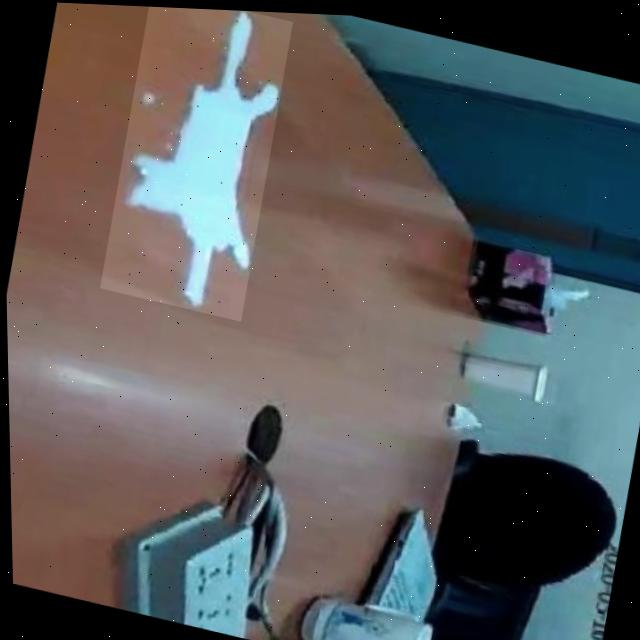spillage: (115, 8, 278, 309)
